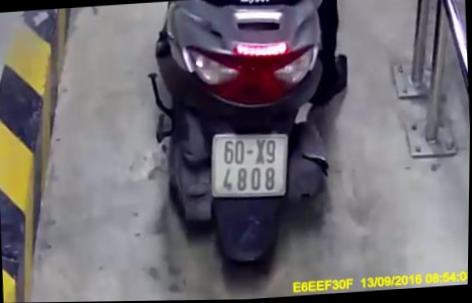LP: (209, 129, 291, 201)
